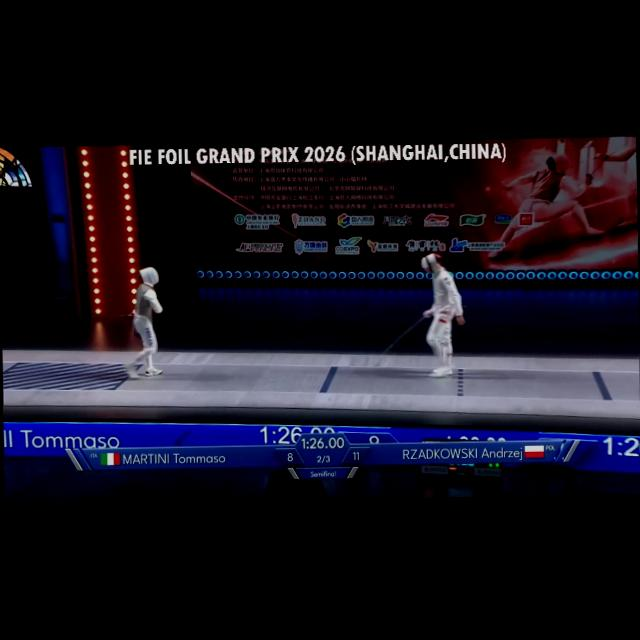blade: (373, 312, 434, 361)
